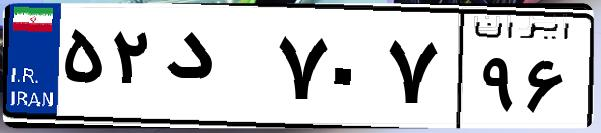0: (330, 28, 385, 110)
2: (110, 28, 158, 98)
5: (57, 26, 110, 100)
6: (525, 38, 570, 115)
7: (270, 28, 330, 110), (385, 28, 445, 110)
9: (475, 38, 525, 113)
د: (158, 20, 270, 120)
